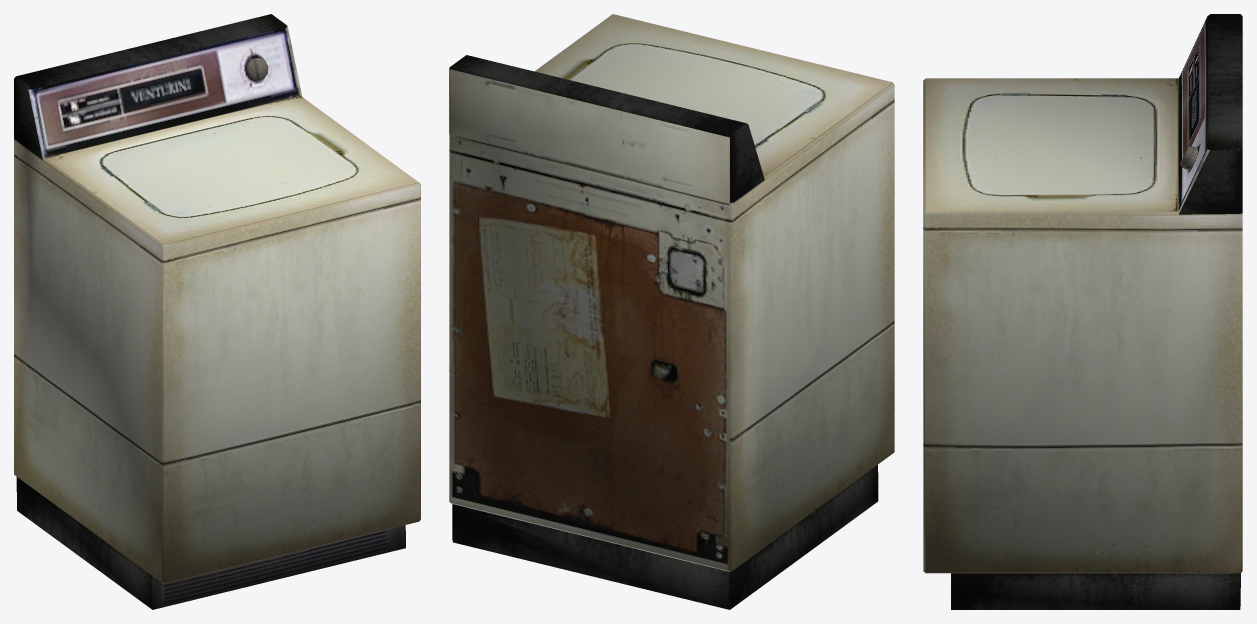
File: washer.obj
3 renders of one model, left to right at view 1: azimuth 30°, elevation 25°; view 2: azimuth 150°, elevation 25°; view 3: azimuth 270°, elevation 25°, orthographic. The views are drawn at different scales.
Visible parts, largest first — view 1: Model001_Model001_Model001_4_washer_1_0_0; view 2: Model001_Model001_Model001_4_washer_1_0_0; view 3: Model001_Model001_Model001_4_washer_1_0_0.
Part boxes in pixels (left/top/right/bottom): Model001_Model001_Model001_4_washer_1_0_0: left=14, top=14, right=420, bottom=609; Model001_Model001_Model001_4_washer_1_0_0: left=449, top=14, right=894, bottom=609; Model001_Model001_Model001_4_washer_1_0_0: left=923, top=14, right=1242, bottom=609.
Bounding box in the file's own units: 0.6983 × 1.12 × 0.6983.
